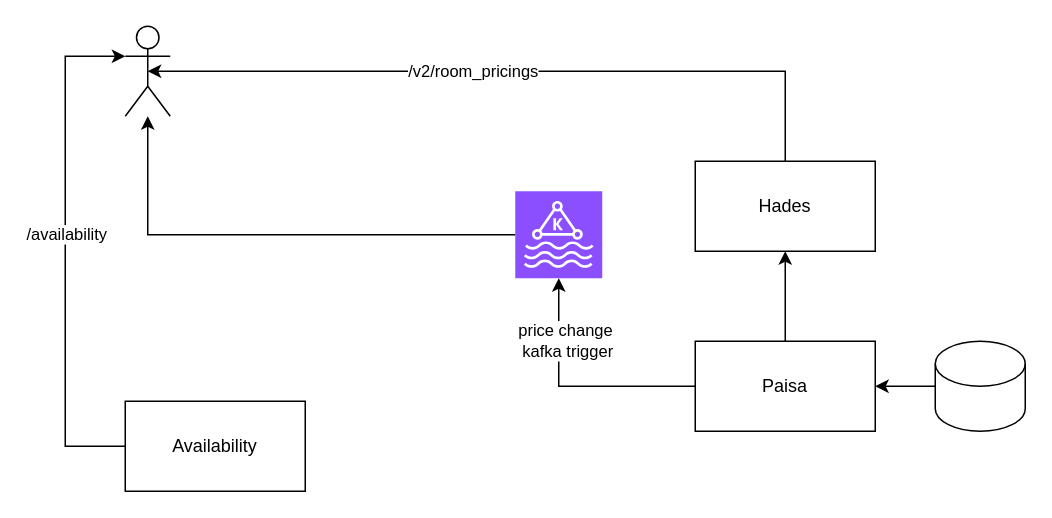
This 1052x518 diagram has some shape labels left out. The centre of each missing label's shape, as x and y in pixels:
"metaplatform" goes at point 147,70.
"paisaDB" goes at point 979,385.
